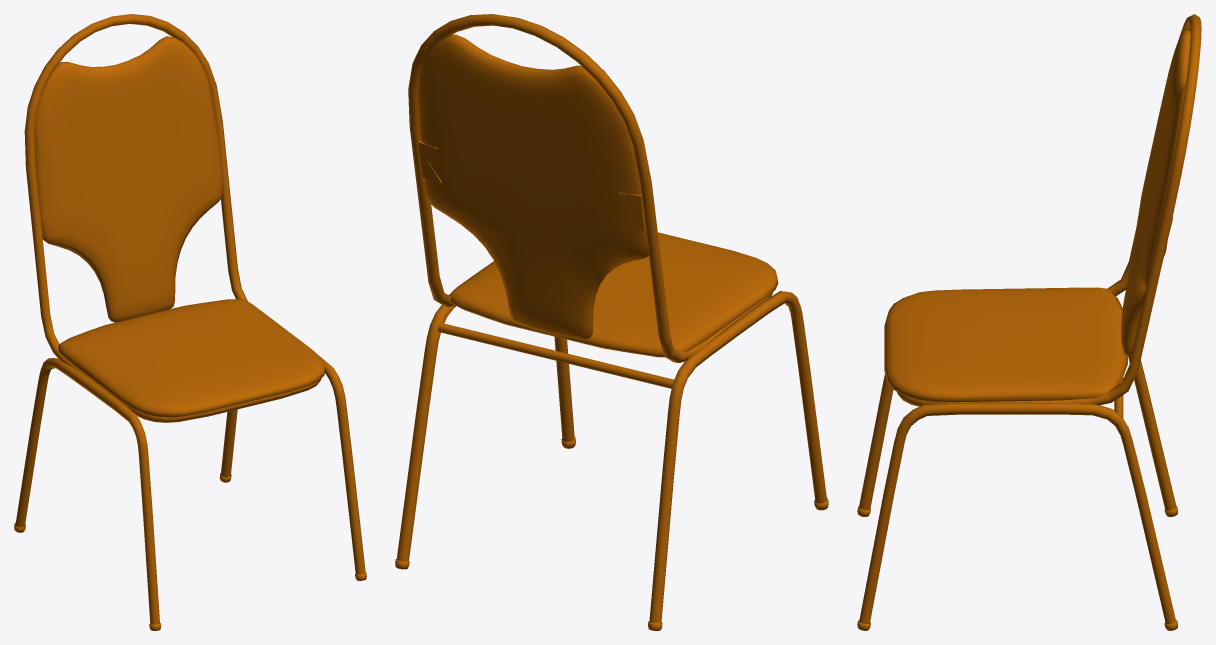
Rendered from stul.fbx.
3 renders of one model, left to right at view 1: azimuth 30°, elevation 25°; view 2: azimuth 150°, elevation 25°; view 3: azimuth 270°, elevation 25°, orthographic. The views are drawn at different scales.
Visible parts, largest first — view 1: Chair_padTop_low, Chair_padLow_low, Chair_wireBig_low, Chair_wireMid_low; view 2: Chair_padTop_low, Chair_padLow_low, Chair_wireMid_low, Chair_wireBig_low, Chair_wireShort_low, Chair_holder_low; view 3: Chair_padLow_low, Chair_wireMid_low, Chair_padTop_low, Chair_wireBig_low.
Boxes of the visible parts, bbox=[...] form: Chair_padTop_low: bbox=[34, 36, 223, 322]; Chair_padLow_low: bbox=[58, 299, 325, 417]; Chair_wireBig_low: bbox=[24, 14, 321, 422]; Chair_wireMid_low: bbox=[15, 355, 365, 624]; Chair_padTop_low: bbox=[418, 34, 648, 339]; Chair_padLow_low: bbox=[449, 232, 778, 357]; Chair_wireMid_low: bbox=[396, 291, 827, 622]; Chair_wireBig_low: bbox=[408, 14, 772, 362]; Chair_wireShort_low: bbox=[437, 323, 673, 388]; Chair_holder_low: bbox=[418, 140, 645, 230]; Chair_padLow_low: bbox=[884, 287, 1127, 402]; Chair_wireMid_low: bbox=[859, 355, 1176, 623]; Chair_padTop_low: bbox=[1121, 30, 1190, 355]; Chair_wireBig_low: bbox=[897, 14, 1201, 406].
Bounding box in the file's own units: 49.48 × 105 × 60.11.
